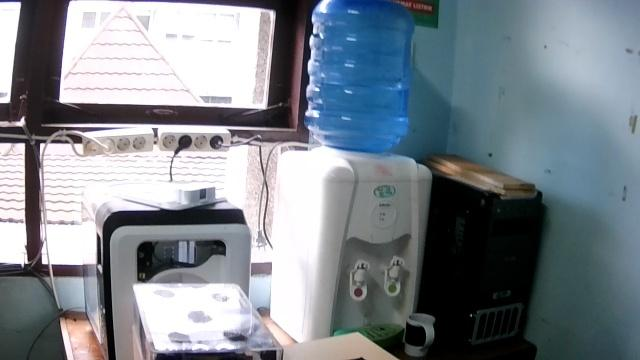Dispenser: (268, 0, 433, 345)
